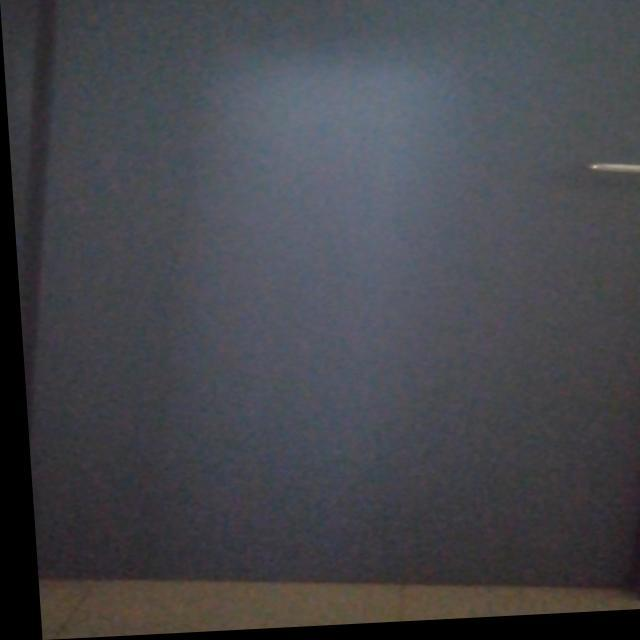door_handle: (576, 162, 640, 191)
